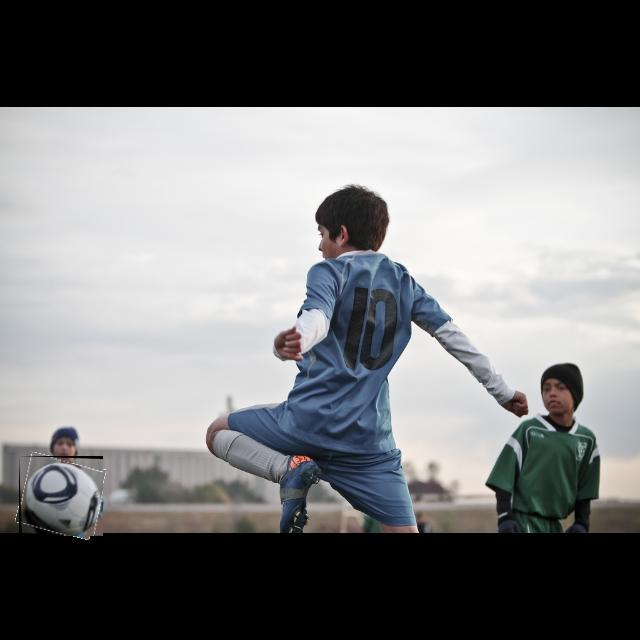Football: (19, 456, 103, 536)
